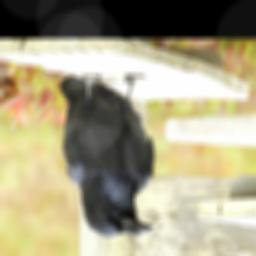Crow: (59, 73, 157, 238)
